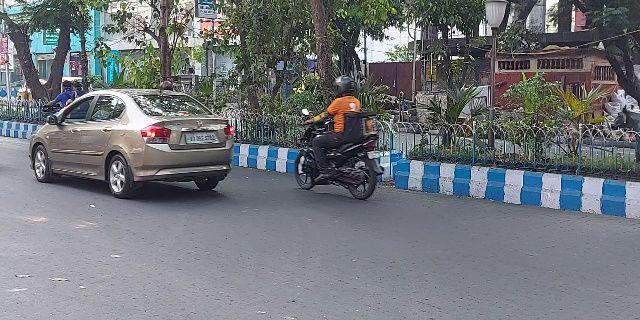Car: (25, 88, 232, 201)
Motorbike: (293, 74, 381, 202)
